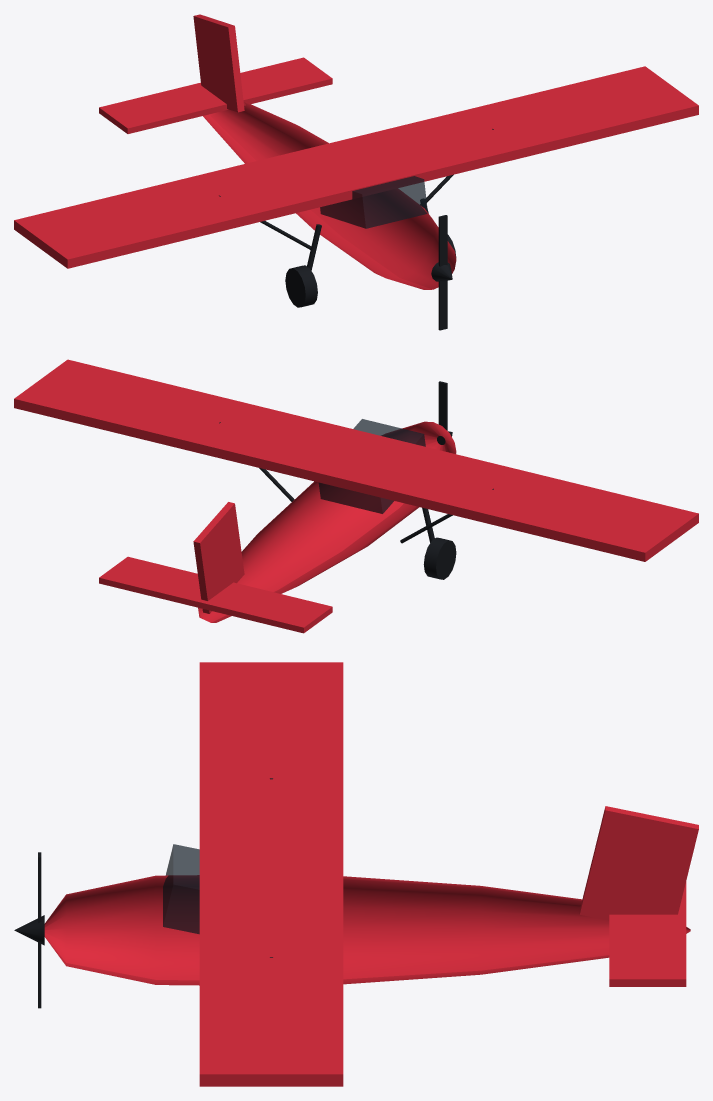
Rendered from plane_prop.glb.
The picture shows the model from 3 angles, top to bottom: view 1: azimuth 30°, elevation 25°; view 2: azimuth 150°, elevation 25°; view 3: azimuth 270°, elevation 25°; orthographic projection. The views are drawn at different scales.
Visible parts, largest first — view 1: plane_prop; view 2: plane_prop; view 3: plane_prop.
Boxes of the visible parts, box(x1,y1,x2,y2) form: plane_prop: box(14, 14, 698, 330); plane_prop: box(14, 359, 698, 633); plane_prop: box(14, 662, 698, 1086).
Size of the model in its own units: 11.4 by 2.77 by 8.01.
